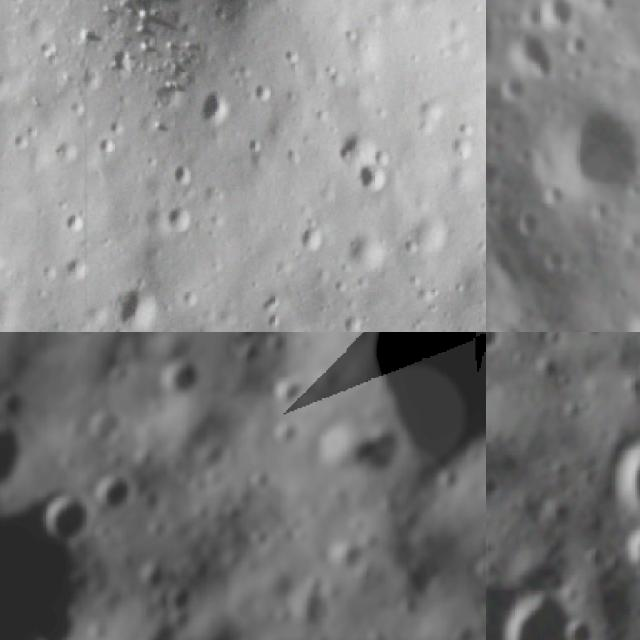crater: (295, 384, 415, 502), (543, 93, 640, 214), (24, 474, 108, 558), (491, 582, 591, 640), (142, 336, 216, 411), (250, 344, 324, 418), (491, 11, 562, 85), (0, 394, 45, 508), (77, 458, 145, 526), (67, 391, 135, 458), (606, 436, 640, 530), (124, 545, 180, 602), (257, 401, 313, 457), (151, 573, 205, 627), (114, 284, 162, 332), (235, 456, 283, 504), (345, 226, 392, 274), (486, 64, 525, 121), (426, 458, 469, 500), (513, 206, 550, 249), (59, 249, 95, 286), (162, 203, 201, 237), (200, 86, 233, 122), (621, 526, 640, 586), (416, 100, 449, 134), (300, 216, 328, 256), (574, 544, 606, 578), (564, 613, 601, 640), (557, 398, 588, 428), (452, 125, 479, 159), (354, 168, 392, 192), (486, 156, 507, 199), (253, 289, 289, 312), (98, 128, 127, 156), (54, 136, 82, 164), (178, 281, 204, 310), (171, 162, 202, 185), (469, 591, 486, 632), (62, 214, 94, 234), (538, 332, 567, 353), (243, 132, 263, 162), (486, 473, 503, 508), (403, 227, 423, 256), (251, 81, 275, 103), (372, 144, 392, 168), (486, 332, 503, 359), (345, 310, 365, 332), (263, 318, 287, 330), (486, 439, 493, 468)
